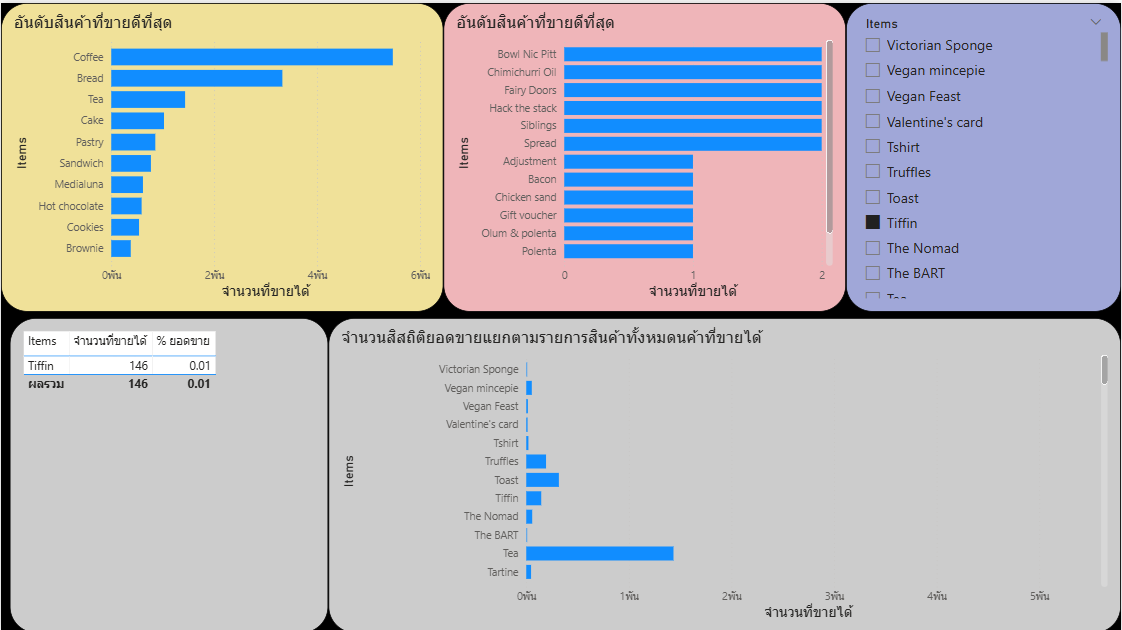

The page's visual inventory and layout, read from the dashboard file:
{"tool":"powerbi","page":{"name":"หน้า 2","canvas":[1280,720],"ordinal":1},"visuals":[{"type":"barChart","title":"อันดับสินค้าที่ขายดีที่สุด","fields":{"Y":["Bakery.จำนวนที่ขายได้"],"Category":["Bakery.Items"]},"box":[0,0,505.7,352.9],"z":0},{"type":"slicer","fields":{"Values":["Bakery.Items"]},"box":[965.7,0,314.3,352.9],"z":1000},{"type":"tableEx","fields":{"Values":["Bakery.Items","Bakery.จำนวนที่ขายได้","Bakery.% ยอดขาย"]},"box":[10,360,364.3,360],"z":2000},{"type":"clusteredBarChart","title":"จำนวนสิสถิติยอดขายแยกตามรายการสินค้าทั้งหมดนค้าที่ขายได้","fields":{"Category":["Bakery.Items"],"Y":["Bakery.จำนวนที่ขายได้"]},"box":[374.3,360,905.7,360],"z":3000},{"type":"barChart","title":"อันดับสินค้าที่ขายดีที่สุด","fields":{"Y":["Bakery.จำนวนที่ขายได้"],"Category":["Bakery.Items"]},"box":[505.7,0,460,352.9],"z":4000}]}

Visuals, with their boxes in screenshot pixels (x1, y1, x2, y2), scaled from the page's 1280x720 canvas onto the 1122x630 screenshot:
"อันดับสินค้าที่ขายดีที่สุด" barChart: {"left": 0, "top": 0, "right": 443, "bottom": 309}
slicer - Bakery.Items: {"left": 846, "top": 0, "right": 1121, "bottom": 309}
tableEx - Bakery.Items x Bakery.จำนวนที่ขายได้: {"left": 9, "top": 315, "right": 328, "bottom": 629}
"จำนวนสิสถิติยอดขายแยกตามรายการสินค้าทั้งหมดนค้าที่ขายได้" clusteredBarChart: {"left": 328, "top": 315, "right": 1121, "bottom": 629}
"อันดับสินค้าที่ขายดีที่สุด" barChart: {"left": 443, "top": 0, "right": 846, "bottom": 309}
